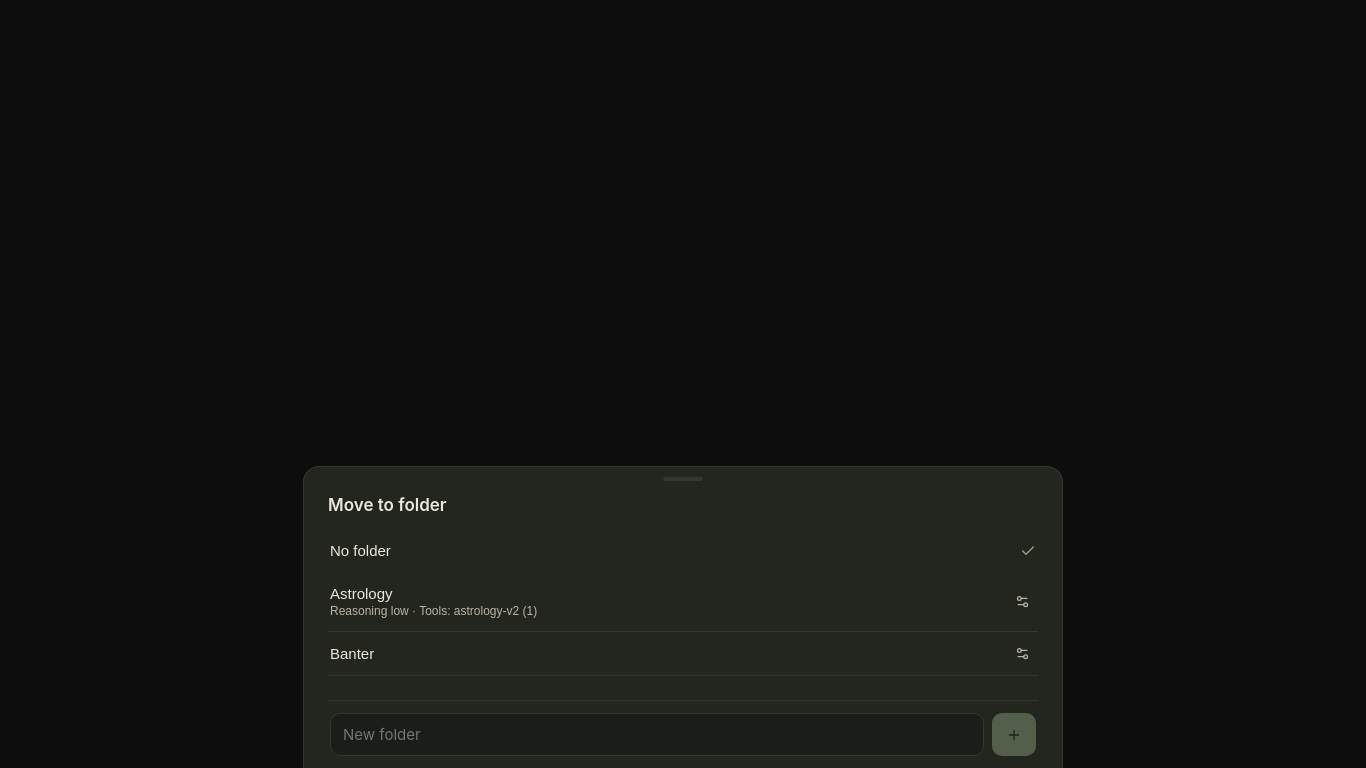
Test case: FolderPicker › starts from a folder's own tool subset, with just those ticked
Expected: the text "Reasoning low · Tools: astrology-v2 (1)" is shown, top-left (330, 604), bottom-right (537, 618)
Click the button named "Edit Astrology" at (1022, 602), box top-left (1006, 586), bottom-right (1038, 618)
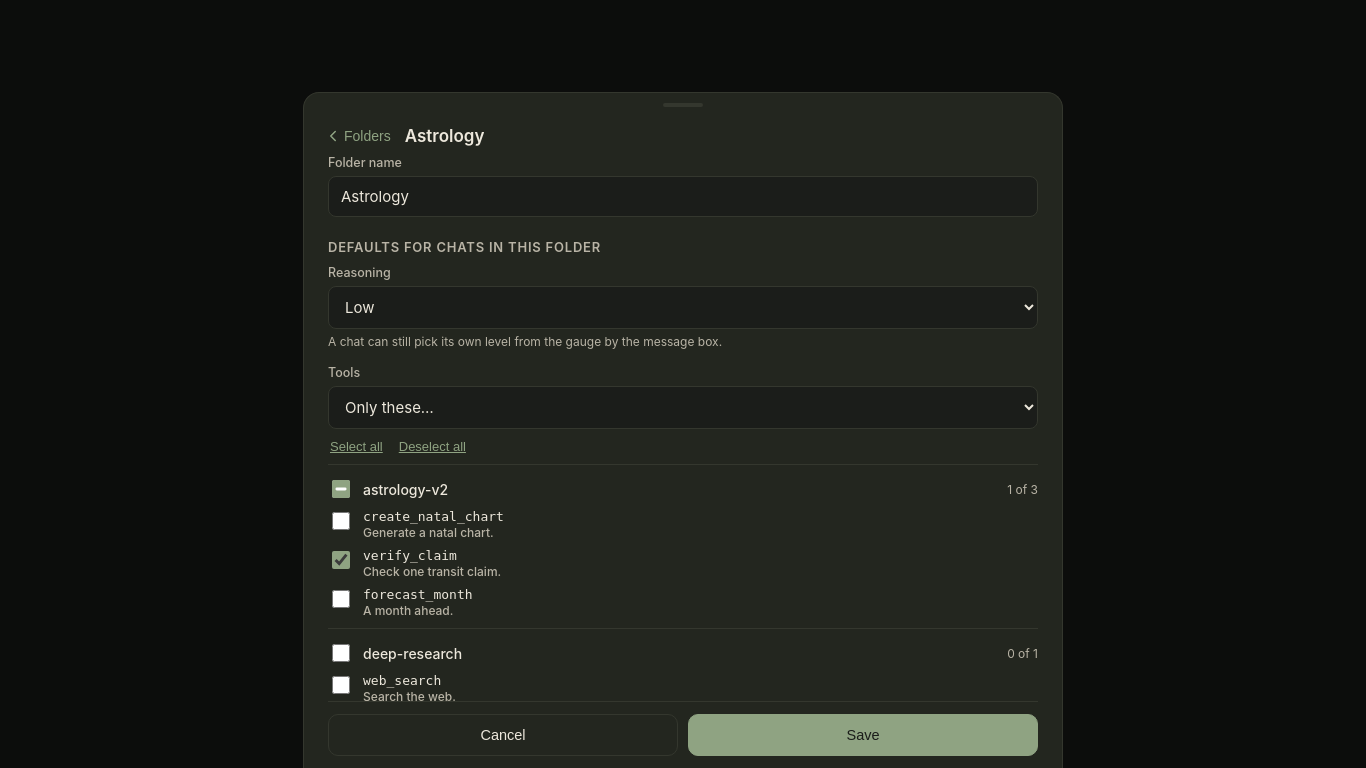
Expected: the dropdown labelled "Tools" shows "Only these…", top-left (328, 386), bottom-right (1038, 429)
Expected: the text "1 of 3" is shown, top-left (1007, 482), bottom-right (1038, 497)
Expected: the checkbox labelled "verify_claim Check one transit claim." is checked, top-left (332, 551), bottom-right (350, 569)
